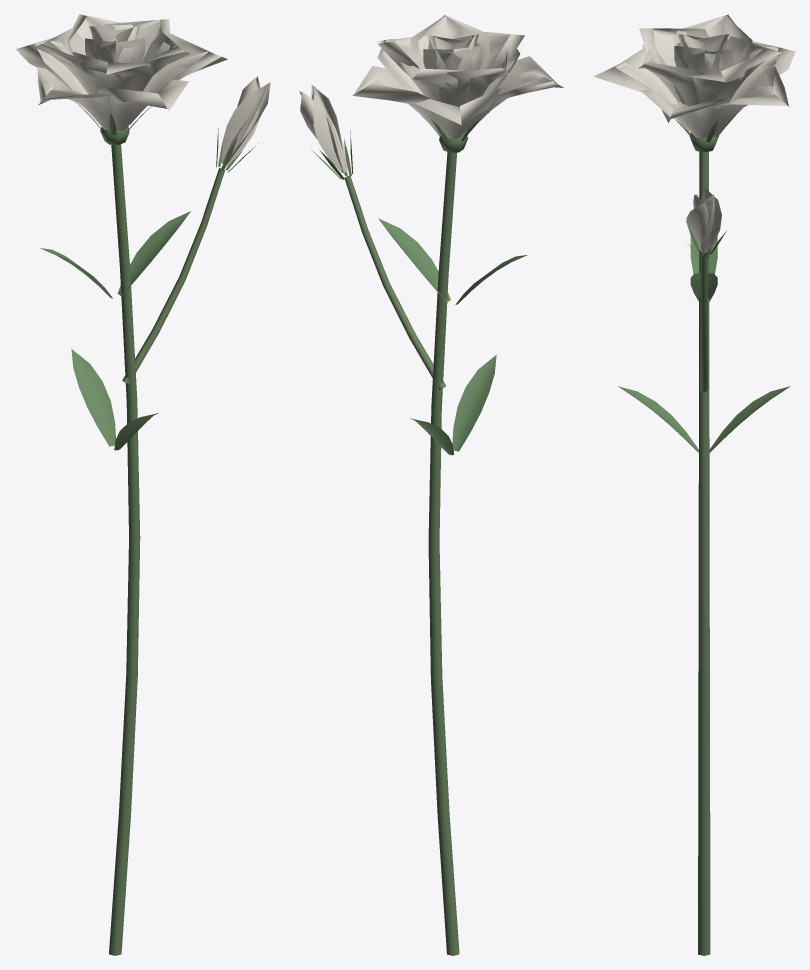
The model's file is lisianthus.glb.
3 views of the same model, side by side, from view 1: azimuth 30°, elevation 25°; view 2: azimuth 150°, elevation 25°; view 3: azimuth 270°, elevation 25° (orthographic).
Visible parts, largest first — view 1: lisianthus; view 2: lisianthus; view 3: lisianthus.
Boxes of the visible parts, box(x1,y1,x2,y2) form: lisianthus: box(16, 14, 270, 955); lisianthus: box(299, 14, 563, 955); lisianthus: box(593, 14, 795, 955).
Bounding box in the file's own units: 0.1039 × 0.3652 × 0.0734.
